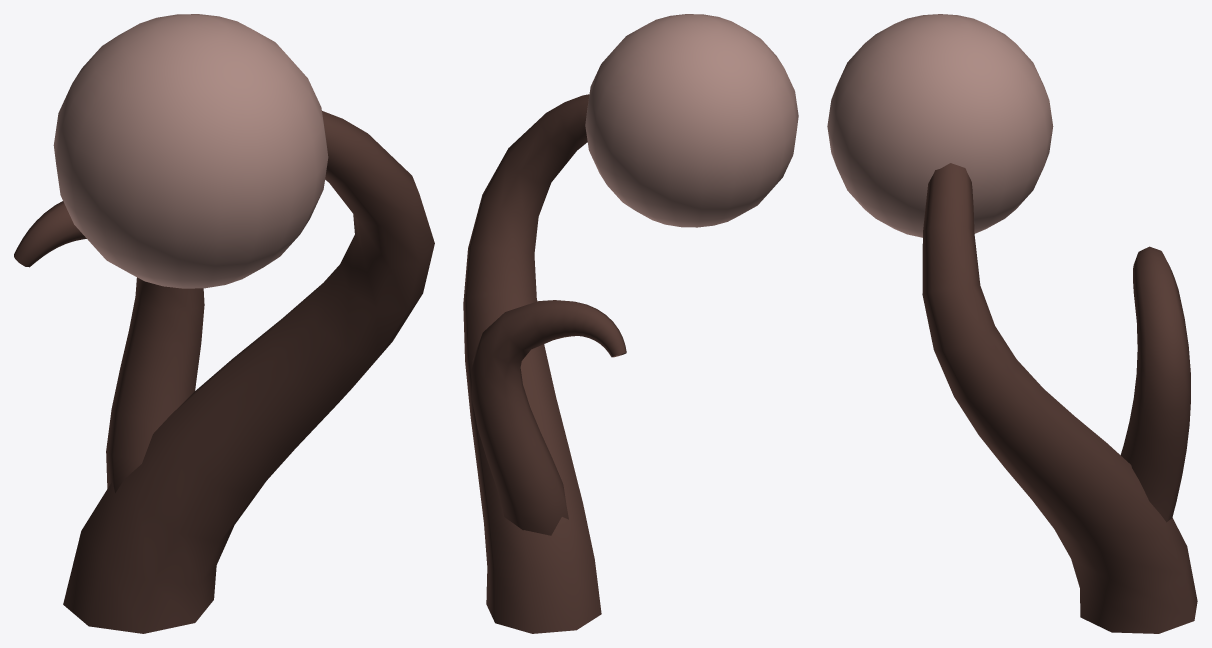
Rendered from quaternius-ultimate-space-pack-tree-light-2-transformed.glb.
3 renders of one model, left to right at view 1: azimuth 30°, elevation 25°; view 2: azimuth 150°, elevation 25°; view 3: azimuth 270°, elevation 25°, orthographic. The views are drawn at different scales.
Visible parts, largest first — view 1: Tree_Light_2; view 2: Tree_Light_2; view 3: Tree_Light_2.
Boxes of the visible parts, x1,y1,x2,y2 form: Tree_Light_2: [14, 14, 434, 633]; Tree_Light_2: [463, 14, 798, 633]; Tree_Light_2: [827, 14, 1197, 633].
Bounding box in the file's own units: 1.44 × 2.51 × 1.51.
Materials: 1 (1 with a texture image).
